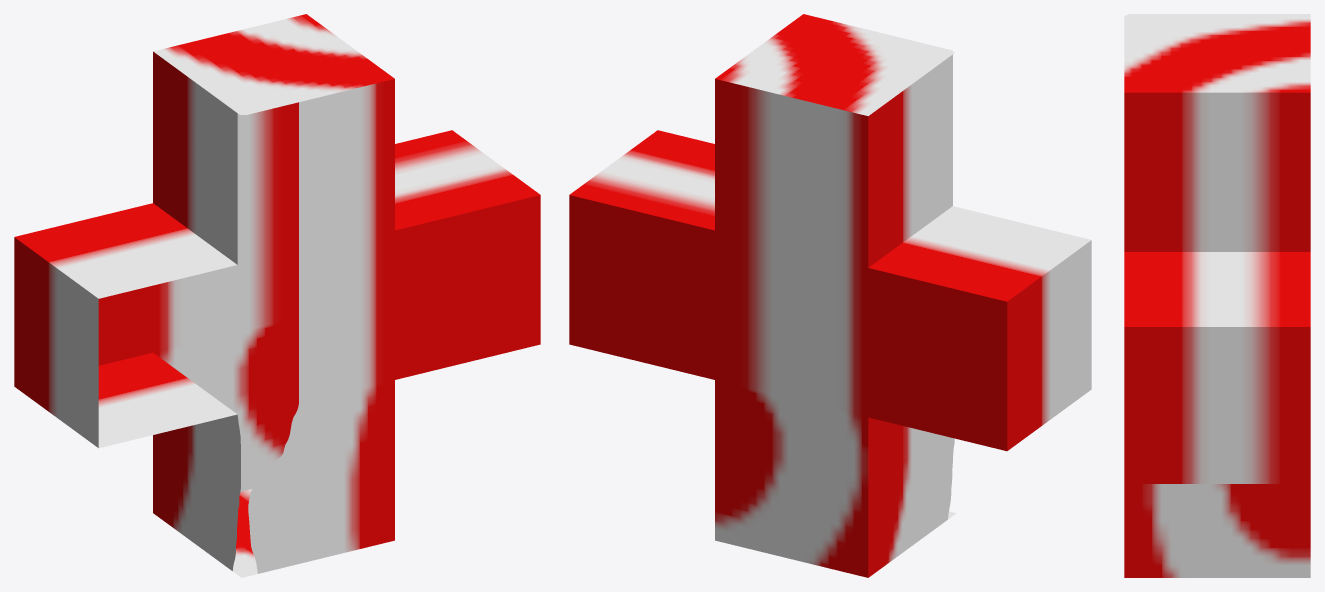
File: Mana_Refill_0.obj
The picture shows the model from 3 angles, left to right: view 1: azimuth 30°, elevation 25°; view 2: azimuth 150°, elevation 25°; view 3: azimuth 270°, elevation 25°; orthographic projection. The views are drawn at different scales.
Parts seen in each view (by area): view 1: Cube; view 2: Cube; view 3: Cube.
Boxes of the visible parts, x1,y1,x2,y2 form: Cube: (14, 14, 540, 577); Cube: (569, 14, 1091, 577); Cube: (1124, 14, 1310, 577).
Bounding box in the file's own units: 5.71 × 5.75 × 2.
